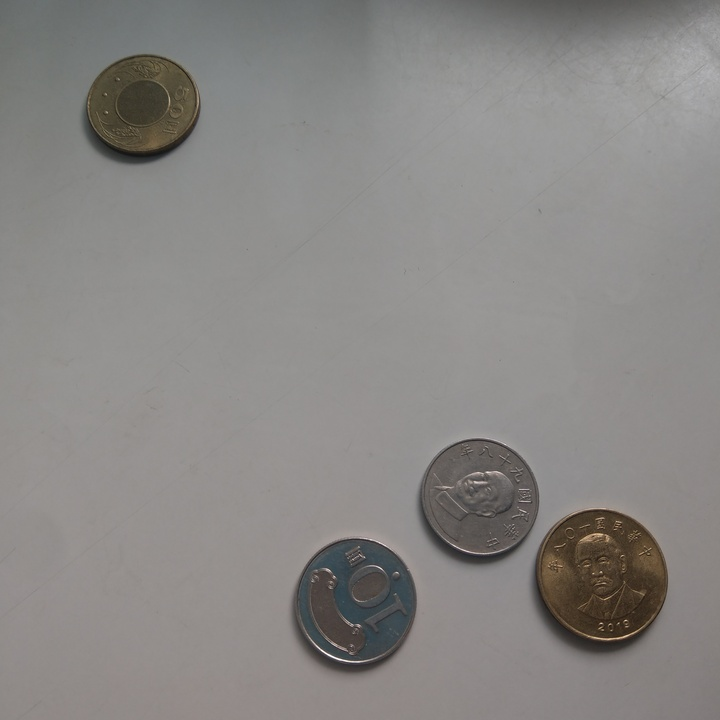10 dollar: (289, 537, 419, 672), (417, 434, 541, 561)
50 dollar: (533, 509, 673, 645), (86, 52, 201, 160)
